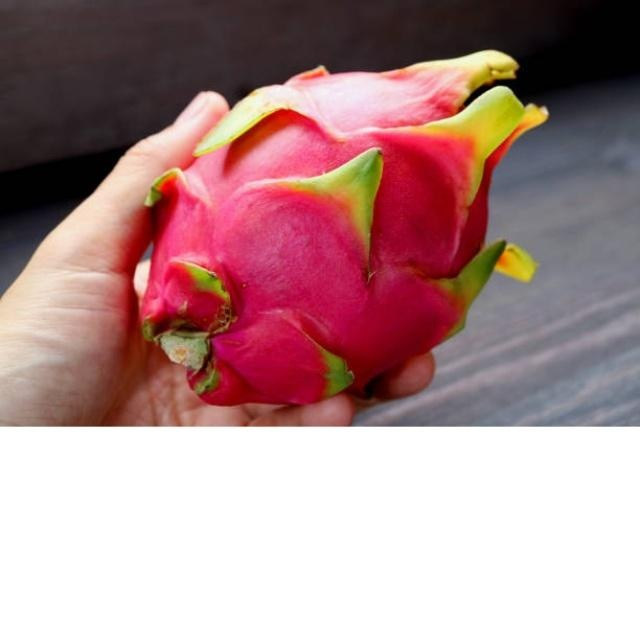thanh_long: (138, 51, 548, 406)
